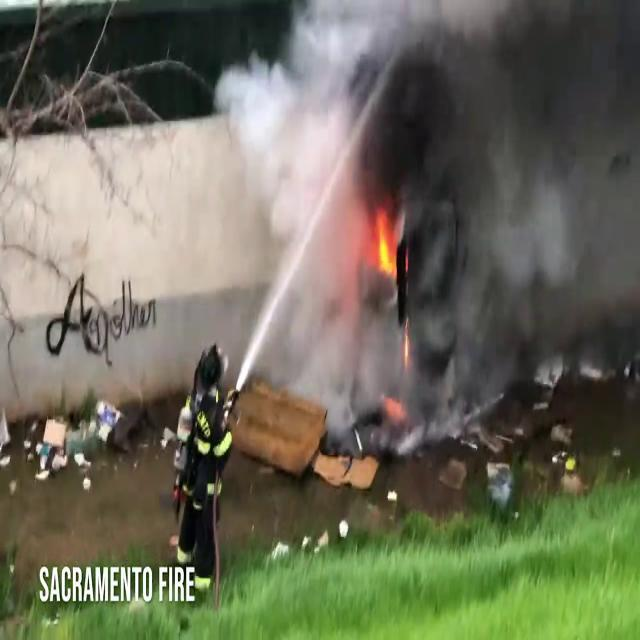Fire: (368, 196, 402, 290)
Smoke: (211, 0, 640, 414)
